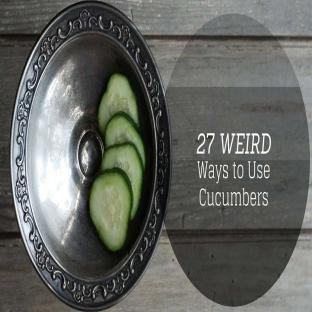Cucumber: (90, 169, 132, 251), (102, 143, 143, 219), (99, 74, 139, 134), (105, 113, 145, 168)
